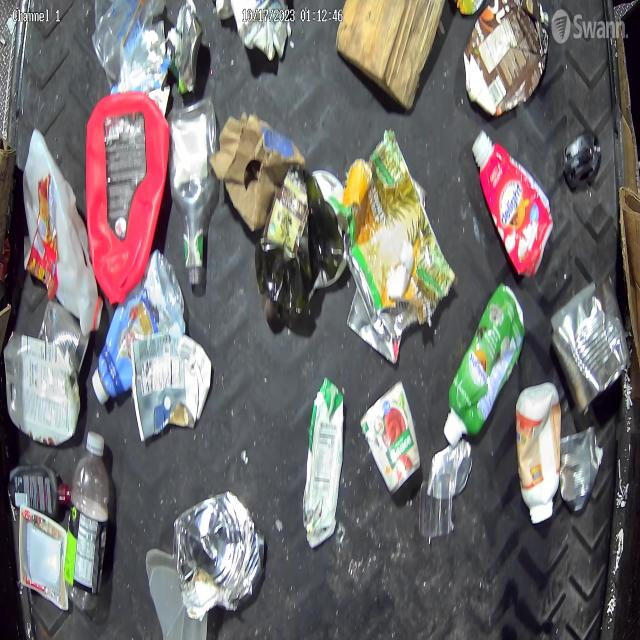can: (551, 286, 628, 416), (360, 380, 421, 490), (38, 300, 91, 376), (560, 424, 604, 514), (426, 439, 475, 499), (178, 6, 204, 94)
milk_jug: (22, 129, 102, 335)
non_white_jug: (87, 96, 169, 302)
plastic_bottle: (168, 106, 217, 281), (65, 432, 110, 610)
